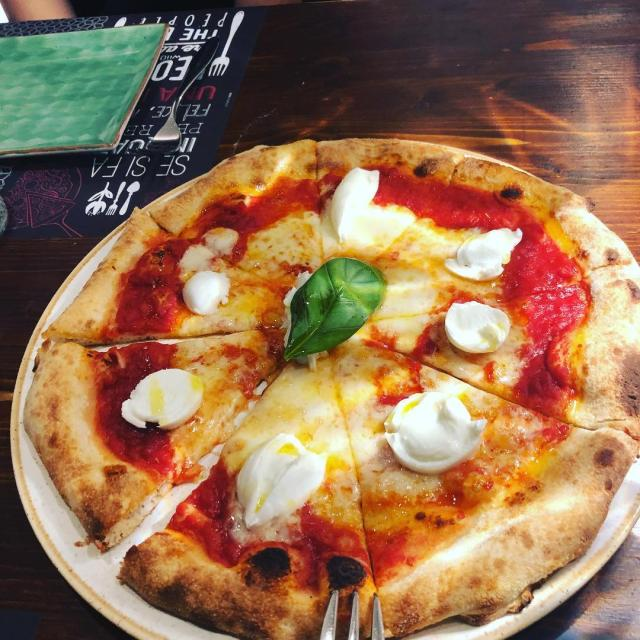basil: (279, 255, 389, 363)
pizza: (21, 135, 640, 640)
